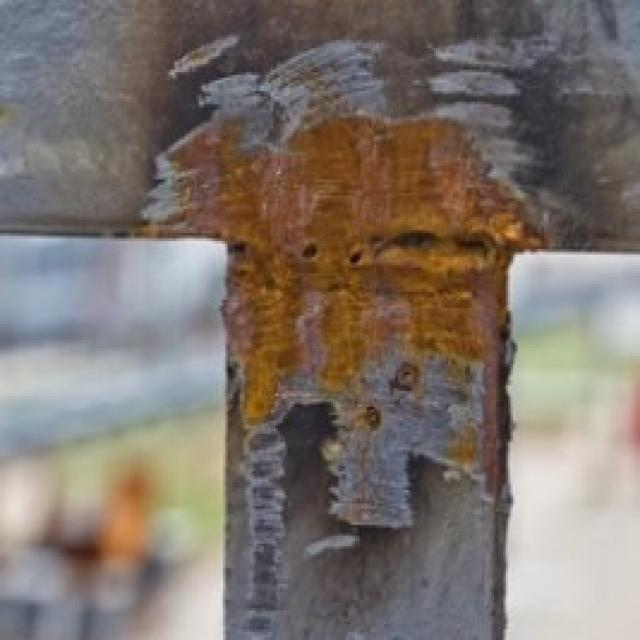Porosity: (351, 222, 498, 273), (294, 233, 324, 265)
